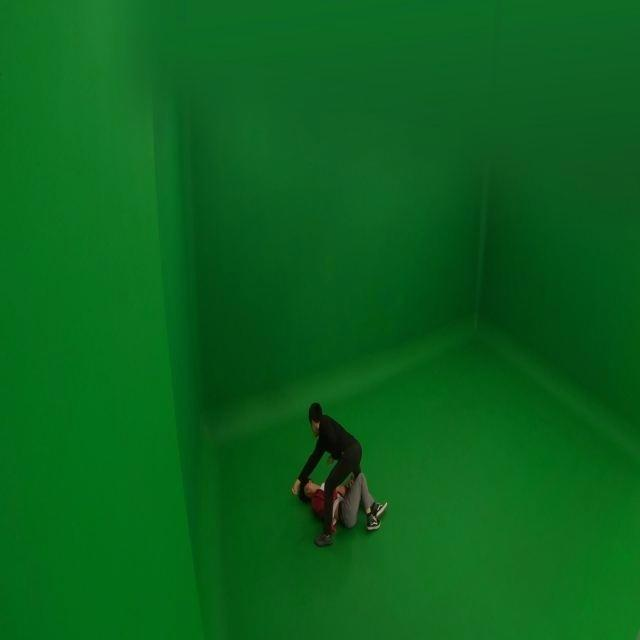fight: (290, 404, 386, 547)
